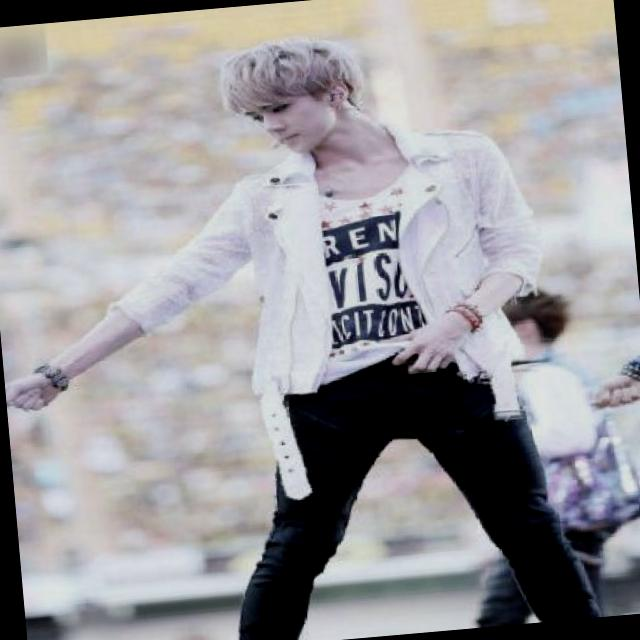Person: (156, 5, 561, 637)
